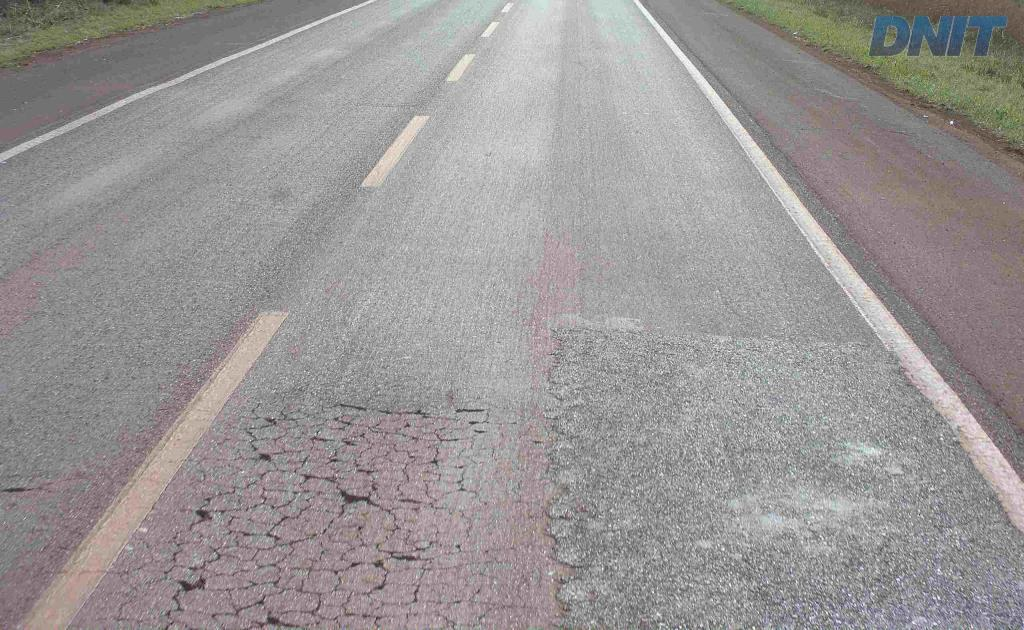crack: (299, 471, 400, 538), (160, 538, 234, 605), (242, 501, 319, 564), (316, 393, 431, 419), (186, 481, 239, 531), (249, 402, 303, 445)
